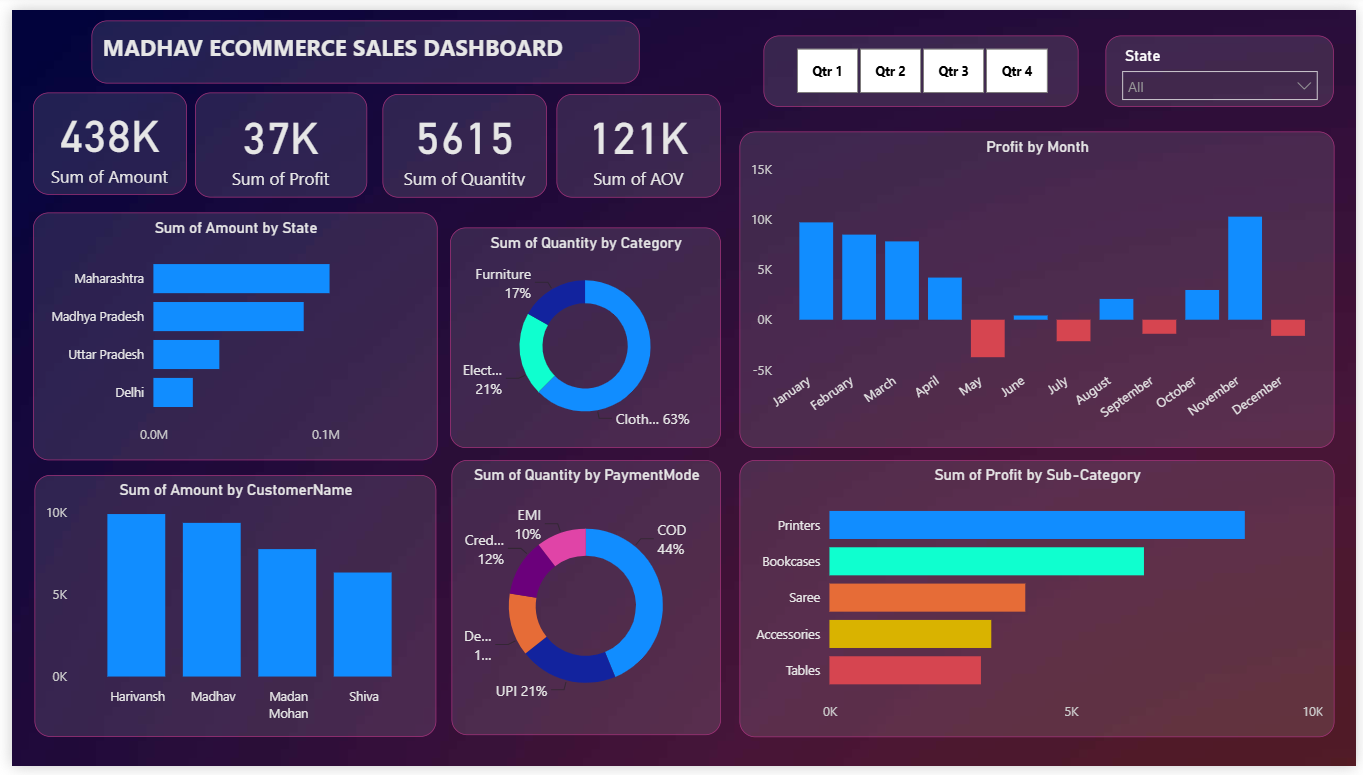

Layout of this report page (visuals, bound fields, positions):
{"tool":"powerbi","page":{"name":"Page 1","canvas":[1280,720],"ordinal":0},"visuals":[{"type":"textbox","box":[76,10,522,60],"z":0},{"type":"columnChart","title":"Profit by Month","fields":{"Y":["Sum(Details.Profit)"],"Category":["Orders.Order Date.Variation.Date Hierarchy.Month"]},"box":[692.8,115.9,566.7,301.4],"z":1000},{"type":"barChart","fields":{"Category":["Details.Sub-Category"],"Y":["Sum(Details.Profit)"]},"box":[692.8,429,566.7,263.8],"z":2000},{"type":"donutChart","fields":{"Category":["Details.Category"],"Y":["Sum(Details.Quantity)"]},"box":[417.4,207.2,258,210.1],"z":3000},{"type":"donutChart","fields":{"Y":["Sum(Details.Quantity)"],"Category":["Details.PaymentMode"]},"box":[418.8,429,256.5,262.3],"z":4000},{"type":"card","fields":{"Values":["Sum(Details.Amount)"]},"box":[20.3,78.3,146.4,97.1],"z":5000},{"type":"card","fields":{"Values":["Sum(Details.Profit)"]},"box":[173.9,78.3,163.8,100],"z":6000},{"type":"card","fields":{"Values":["Sum(Details.Quantity)"]},"box":[352.2,79.7,156.5,98.6],"z":7000},{"type":"card","fields":{"Values":["Sum(Details.AOV)"]},"box":[518.8,79.7,156.5,98.6],"z":8000},{"type":"barChart","fields":{"Category":["Orders.State"],"Y":["Sum(Details.Amount)"]},"box":[20.3,192.8,385.5,236.2],"z":9000},{"type":"columnChart","fields":{"Category":["Orders.CustomerName"],"Y":["Sum(Details.Amount)"]},"box":[21.7,443.5,382.6,249.3],"z":10000},{"type":"slicer","fields":{"Values":["Orders.Order Date.Variation.Date Hierarchy.Quarter"]},"box":[715.9,24.6,300,68.1],"z":11000},{"type":"slicer","fields":{"Values":["Orders.State"]},"box":[1042,24.6,217.4,68.1],"z":12000}]}

Visuals, with their boxes in screenshot pixels (x1, y1, x2, y2), scaled from the page's 1280x720 canvas onto the 1363x775 screenshot:
textbox: detection(81, 11, 637, 75)
"Profit by Month" columnChart: detection(738, 125, 1341, 449)
barChart - Details.Sub-Category x Sum(Details.Profit): detection(738, 462, 1341, 746)
donutChart - Details.Category x Sum(Details.Quantity): detection(444, 223, 719, 449)
donutChart - Sum(Details.Quantity) x Details.PaymentMode: detection(446, 462, 719, 744)
card - Sum(Details.Amount): detection(22, 84, 178, 189)
card - Sum(Details.Profit): detection(185, 84, 360, 192)
card - Sum(Details.Quantity): detection(375, 86, 542, 192)
card - Sum(Details.AOV): detection(552, 86, 719, 192)
barChart - Orders.State x Sum(Details.Amount): detection(22, 208, 432, 462)
columnChart - Orders.CustomerName x Sum(Details.Amount): detection(23, 477, 431, 746)
slicer - Orders.Order Date.Variation.Date Hierarchy.Quarter: detection(762, 26, 1082, 100)
slicer - Orders.State: detection(1110, 26, 1341, 100)
